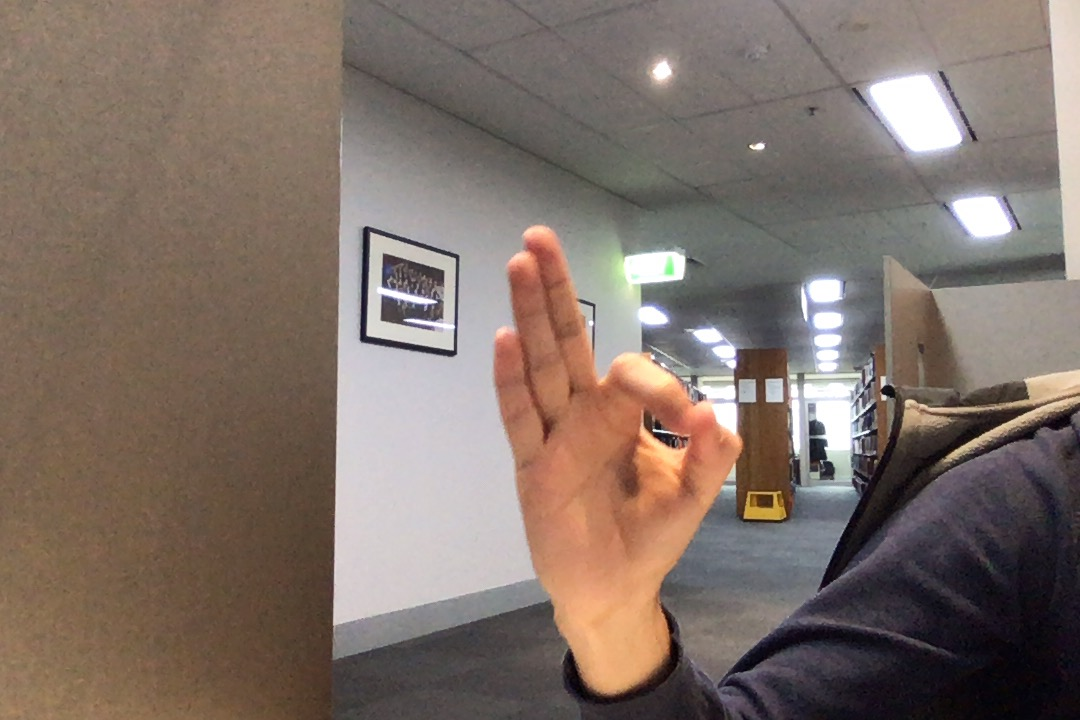oksign: (484, 219, 751, 614)
